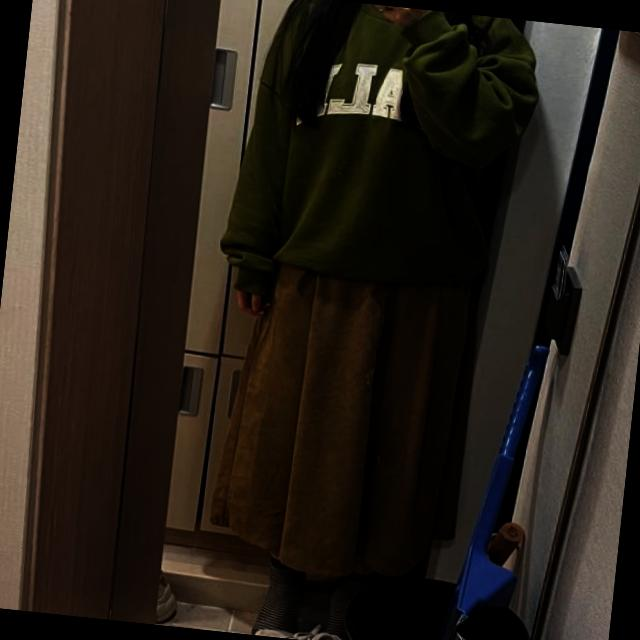mtm: (211, 0, 546, 321)
skirt: (208, 251, 480, 589)
